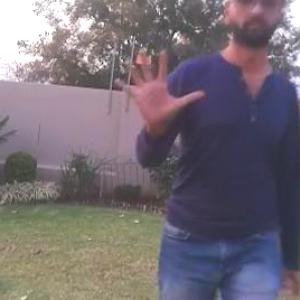follow_hand: (109, 42, 203, 134)
